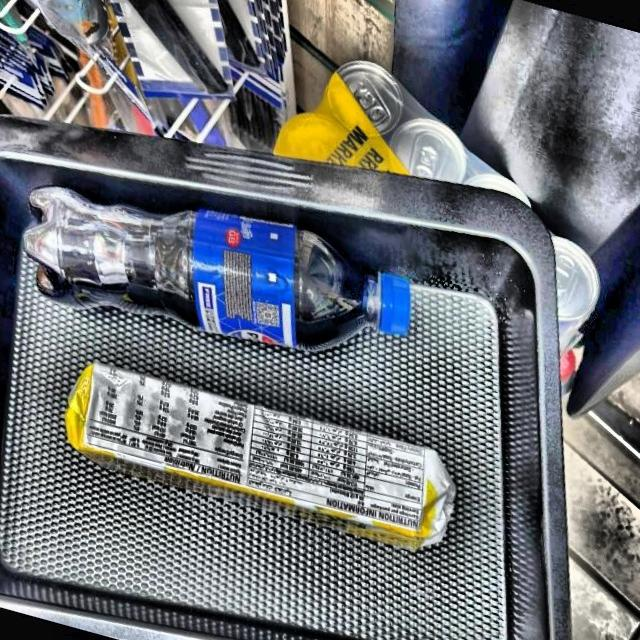lemon puff: (52, 358, 456, 552)
pepsi-bottle: (18, 179, 414, 362)
